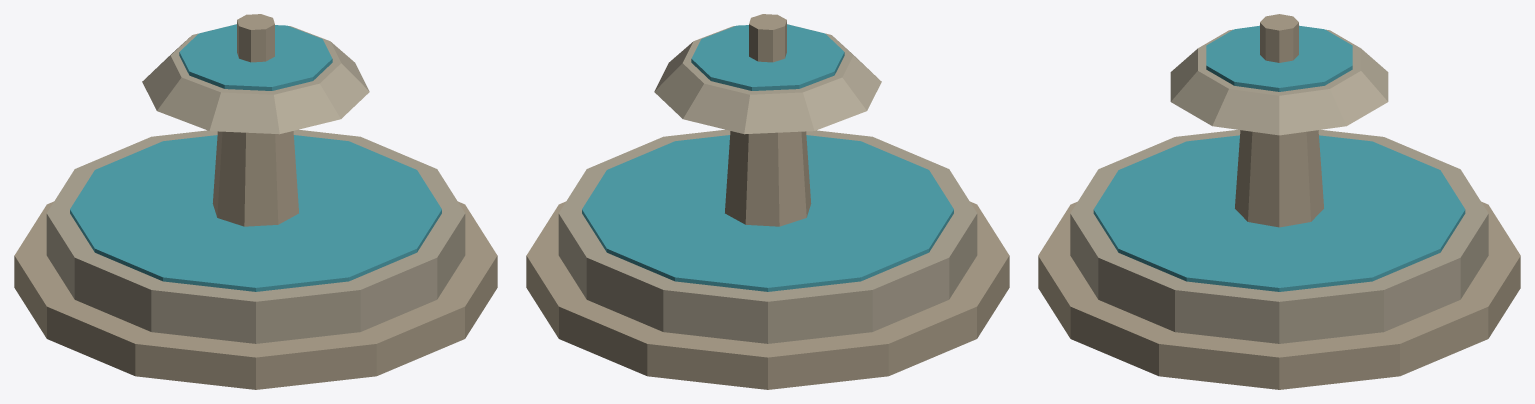
The model's file is Town_Fountain.fbx.
3 views of the same model, side by side, from view 1: azimuth 30°, elevation 25°; view 2: azimuth 150°, elevation 25°; view 3: azimuth 270°, elevation 25° (orthographic).
Parts seen in each view (by area): view 1: Town_Fountain; view 2: Town_Fountain; view 3: Town_Fountain.
Part boxes in pixels (x1,y1,x2,y2): Town_Fountain: [14, 14, 497, 389]; Town_Fountain: [526, 14, 1009, 389]; Town_Fountain: [1038, 14, 1520, 389].
Size of the model in its own units: 2.7 by 1.64 by 2.7.
